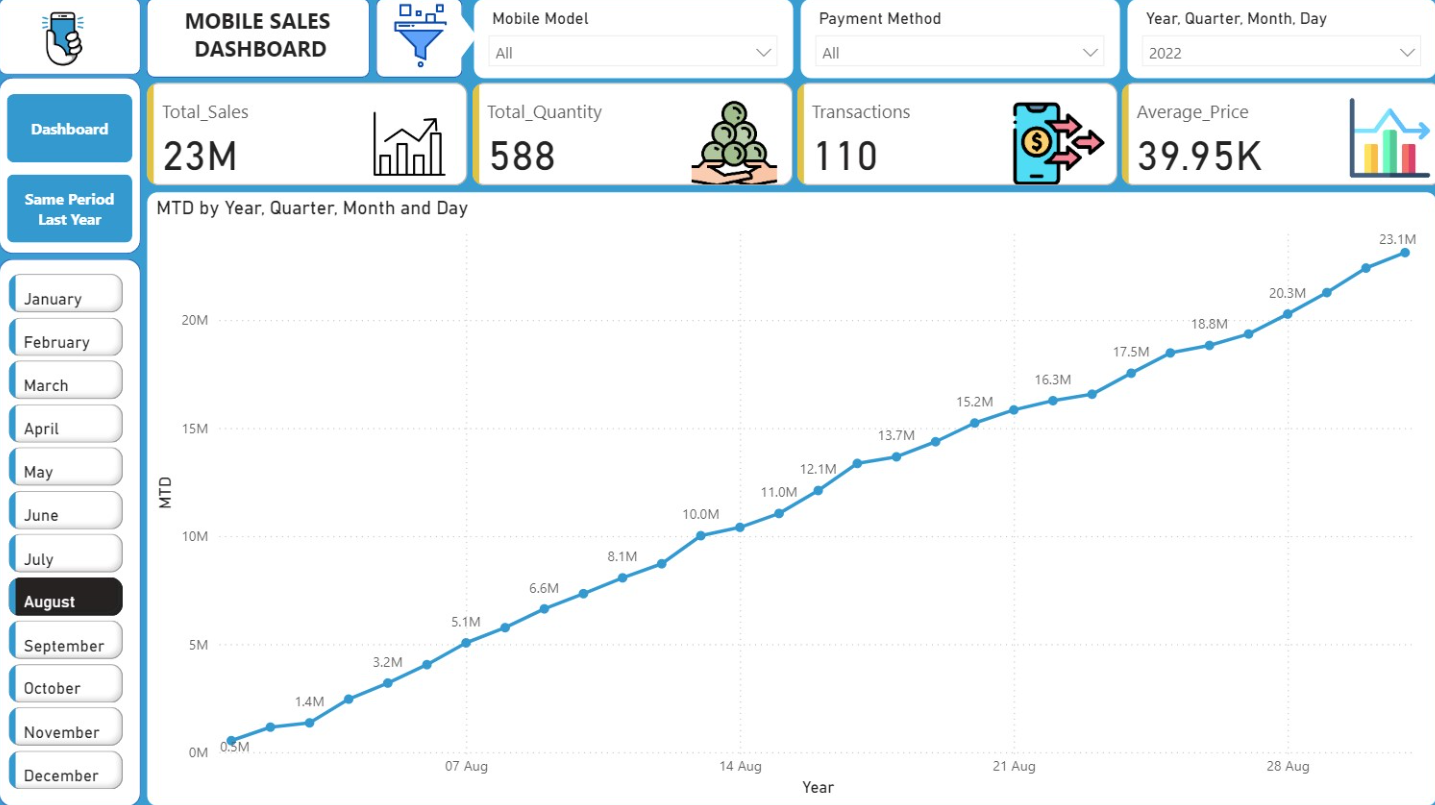

What the dashboard file says about the page in this screenshot:
{"tool":"powerbi","page":{"name":"MTD Report","canvas":[1280,720],"ordinal":1},"visuals":[{"type":"shape","box":[8.7,244.4,122.8,462.7],"z":0},{"type":"shape","box":[10.8,12.1,124.1,54],"z":1000},{"type":"image","box":[45.9,17.5,51.3,41.8],"z":2000},{"type":"shape","box":[11,65.9,123.5,178.4],"z":3000},{"type":"cardVisual","fields":{"Data":["Mobile sales data.Total revenue","Mobile sales data.Total quantity","Mobile sales data.Transaction","Mobile sales data.Average price"]},"box":[120.3,76.9,1159.9,116.6],"z":4000},{"type":"slicer","fields":{"Values":["Mobile sales data.Mobile Model"]},"box":[427.7,12.1,277.9,76.9],"z":5000},{"type":"slicer","fields":{"Values":["Mobile sales data.Payment Method"]},"box":[716.4,12.1,264.4,76.9],"z":6000},{"type":"slicer","fields":{"Values":["calender dates.Date.Variation.Date Hierarchy.Year","calender dates.Date.Variation.Date Hierarchy.Quarter","calender dates.Date.Variation.Date Hierarchy.Month","calender dates.Date.Variation.Date Hierarchy.Day"]},"box":[991.6,12.1,269.8,76.9],"z":7000},{"type":"textbox","box":[135.2,12.4,290.3,75.7],"z":8000},{"type":"lineChart","fields":{"Y":["Mobile sales data.MTD"],"Category":["calender dates.Date.Variation.Date Hierarchy.Year","calender dates.Date.Variation.Date Hierarchy.Quarter","calender dates.Date.Variation.Date Hierarchy.Month","calender dates.Date.Variation.Date Hierarchy.Day"]},"box":[135.2,182.4,1125.2,524.8],"z":9000},{"type":"actionButton","box":[0,0,100,40],"z":10000},{"type":"listSlicer","fields":{"Values":["calender dates.Date.Variation.Date Hierarchy.Month"]},"box":[8.7,256.8,120.3,440.4],"z":11000},{"type":"pageNavigator","box":[17.4,78.2,111.6,152.6],"z":11001}]}

Visuals, with their boxes in screenshot pixels (x1, y1, x2, y2), scaled from the page's 1280x720 canvas onto the 1435x805 screenshot:
shape: (x1=10, y1=273, x2=147, y2=791)
shape: (x1=12, y1=14, x2=151, y2=74)
image: (x1=51, y1=20, x2=109, y2=66)
shape: (x1=12, y1=74, x2=151, y2=273)
cardVisual - Mobile sales data.Total revenue x Mobile sales data.Total quantity: (x1=135, y1=86, x2=1434, y2=216)
slicer - Mobile sales data.Mobile Model: (x1=479, y1=14, x2=791, y2=100)
slicer - Mobile sales data.Payment Method: (x1=803, y1=14, x2=1100, y2=100)
slicer - calender dates.Date.Variation.Date Hierarchy.Year x calender dates.Date.Variation.Date Hierarchy.Quarter: (x1=1112, y1=14, x2=1414, y2=100)
textbox: (x1=152, y1=14, x2=477, y2=99)
lineChart - Mobile sales data.MTD x calender dates.Date.Variation.Date Hierarchy.Year: (x1=152, y1=204, x2=1413, y2=791)
actionButton: (x1=0, y1=0, x2=112, y2=45)
listSlicer - calender dates.Date.Variation.Date Hierarchy.Month: (x1=10, y1=287, x2=145, y2=780)
pageNavigator: (x1=20, y1=87, x2=145, y2=258)
